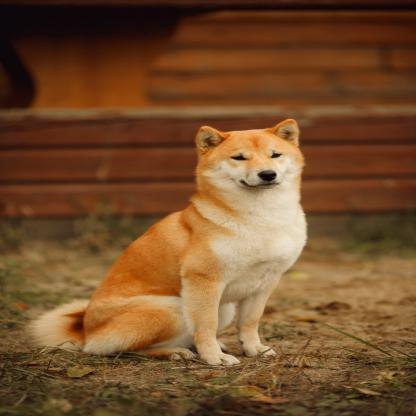Siba-ny: (21, 116, 323, 370)
